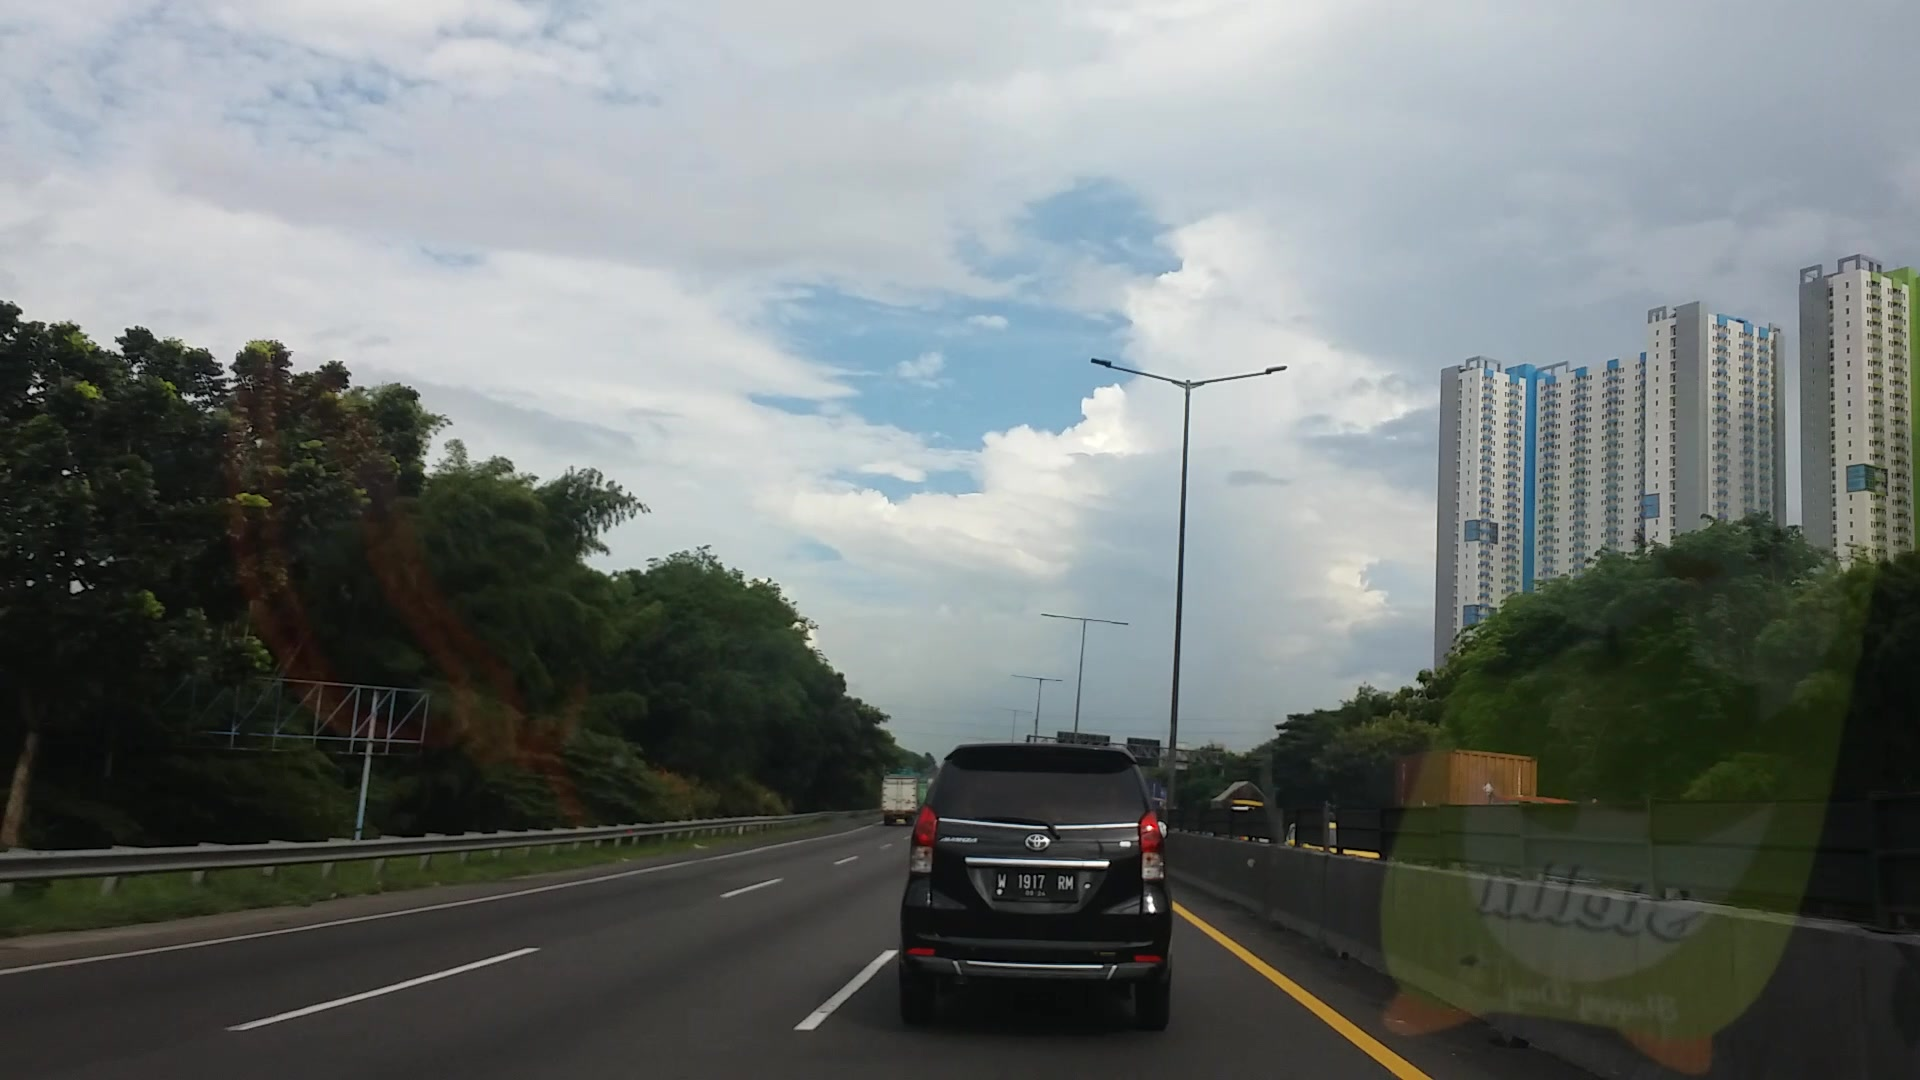plate_positive: (993, 869, 1076, 899)
